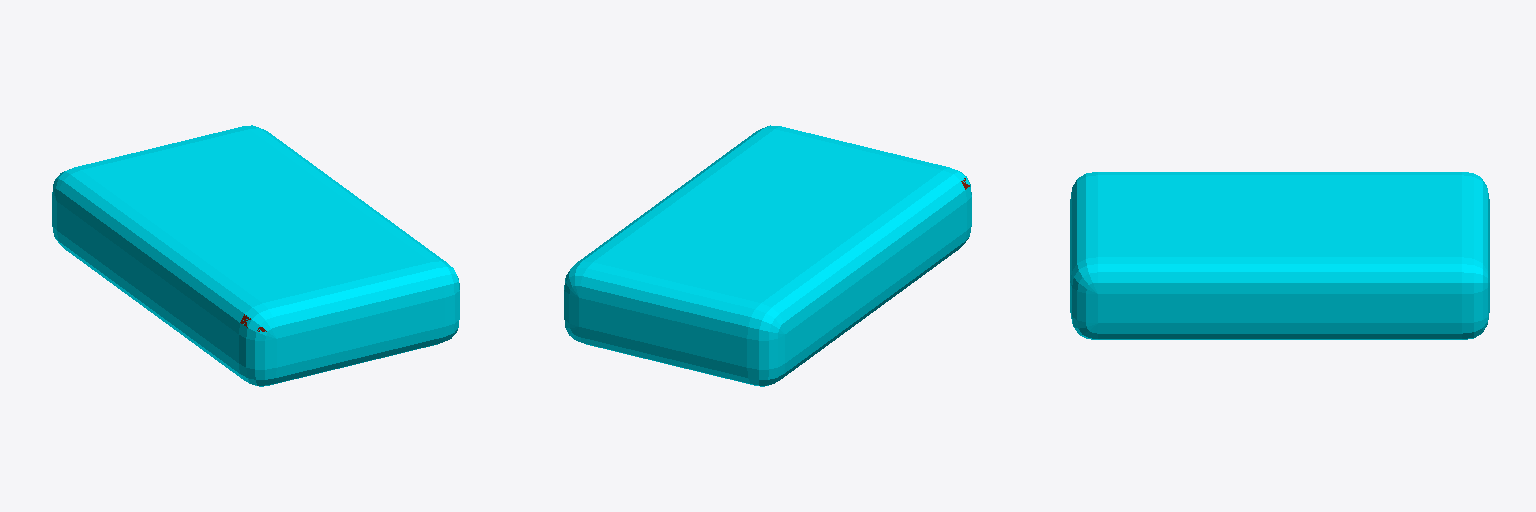
File: Crib.obj
3 views of the same model, side by side, from view 1: azimuth 30°, elevation 25°; view 2: azimuth 150°, elevation 25°; view 3: azimuth 270°, elevation 25° (orthographic).
Parts seen in each view (by area): view 1: Box082; view 2: Box082; view 3: Box082.
Boxes of the visible parts, x1,y1,x2,y2 form: Box082: [52, 125, 459, 386]; Box082: [564, 125, 971, 386]; Box082: [1070, 172, 1489, 339].
Size of the model in its own units: 105758 by 37155 by 177410.